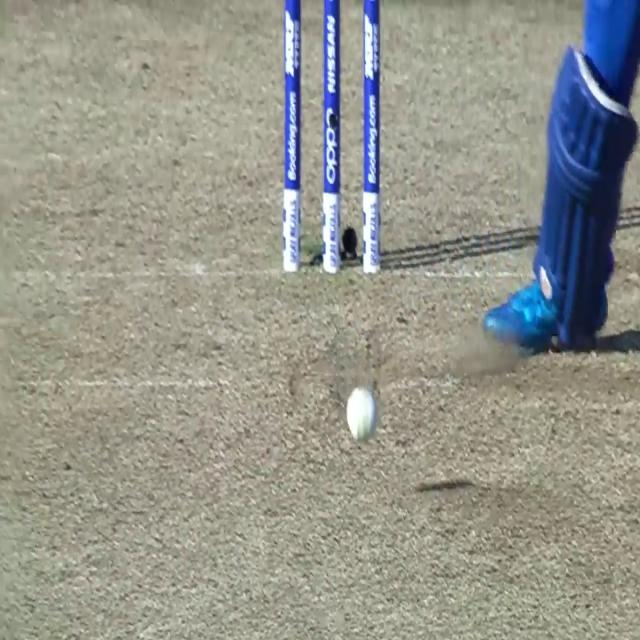ball: (346, 385, 376, 436)
